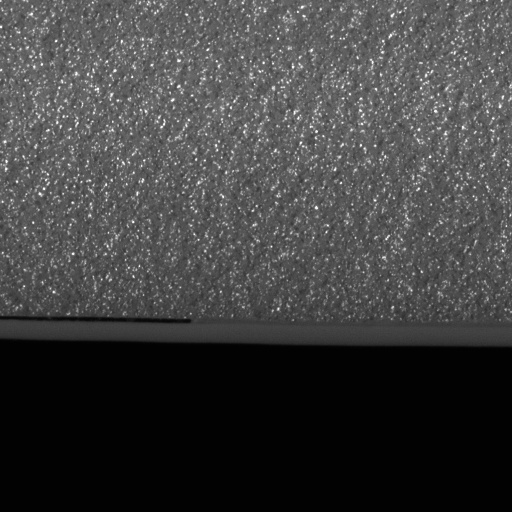jiaofeng: (0, 312, 194, 338)
